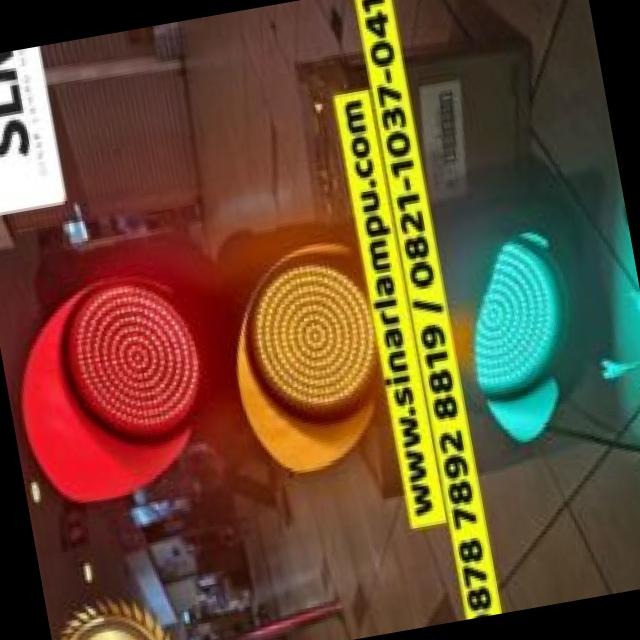green-lights: (448, 231, 572, 398)
red-lights: (55, 272, 212, 443)
yellow-lights: (244, 254, 388, 415)
